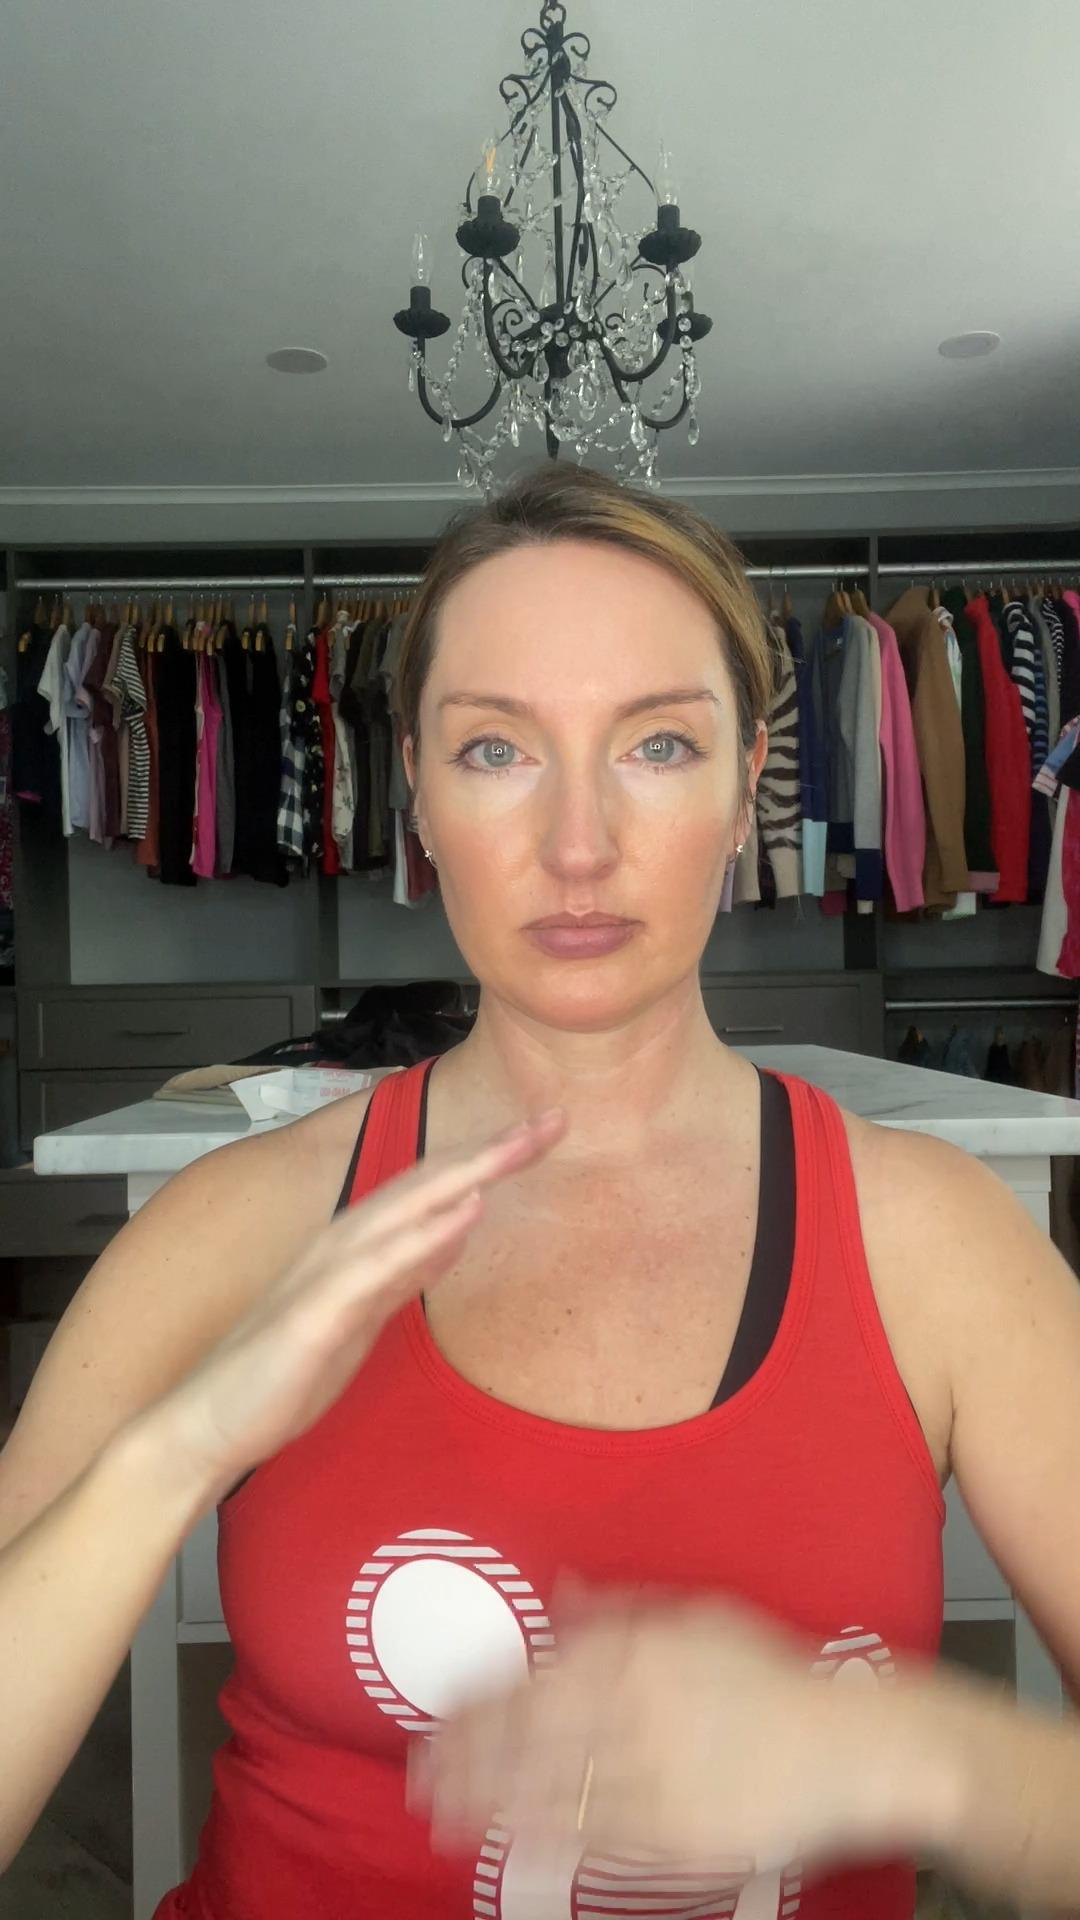Paper: (144, 1124, 571, 1460)
